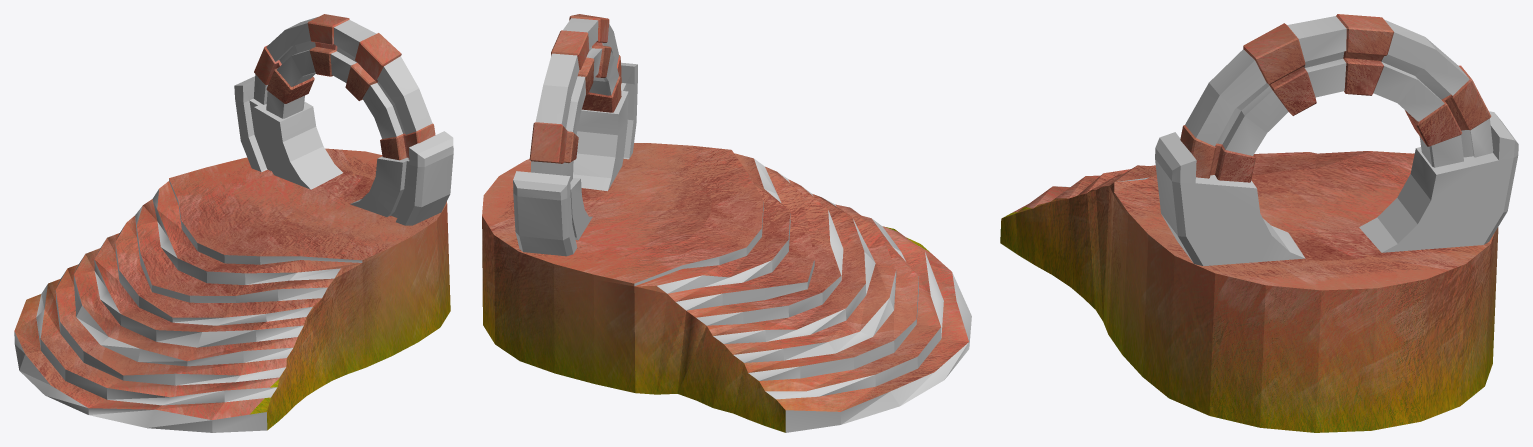
The model's file is Str_Cave_Stairs_Art.fbx.
3 views of the same model, side by side, from view 1: azimuth 30°, elevation 25°; view 2: azimuth 150°, elevation 25°; view 3: azimuth 270°, elevation 25° (orthographic). The views are drawn at different scales.
Visible parts, largest first — view 1: Str_Cave_Stairs; view 2: Str_Cave_Stairs; view 3: Str_Cave_Stairs.
Boxes of the visible parts, <box> form: Str_Cave_Stairs: <box>14,14,453,432</box>; Str_Cave_Stairs: <box>482,14,971,432</box>; Str_Cave_Stairs: <box>1000,14,1518,432</box>.
Size of what is drawn, in the model's own units: 1340 by 879 by 1112.
